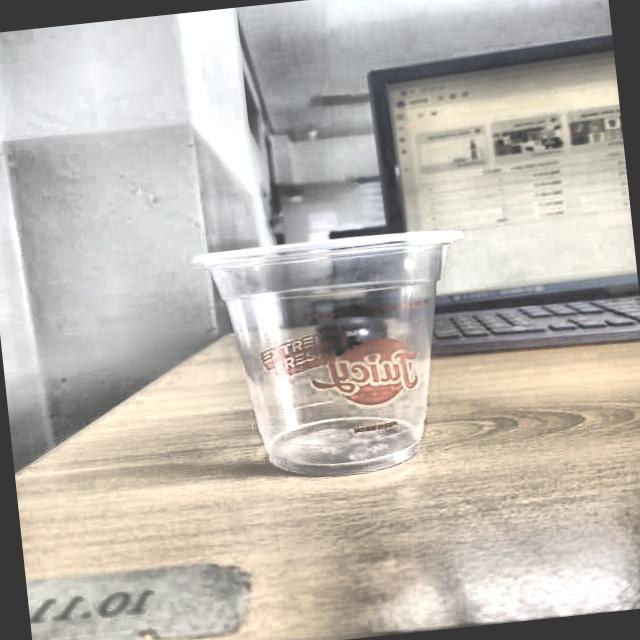plastic cup: (188, 221, 489, 488)
